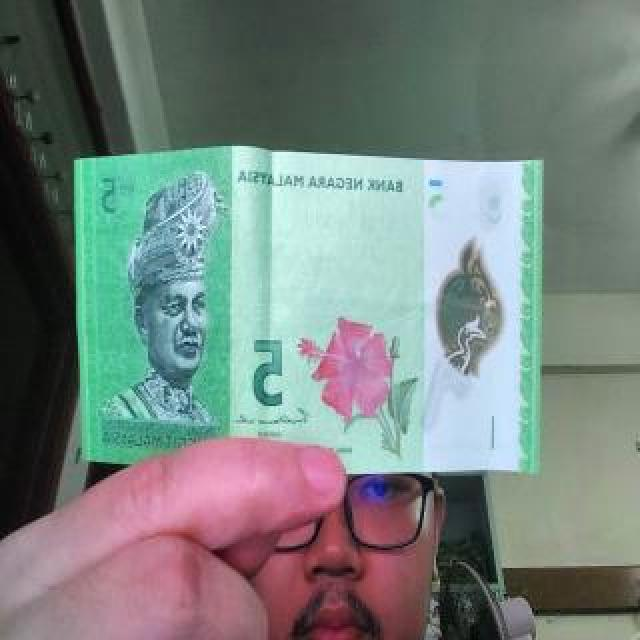5 Ringgit: (78, 150, 544, 478)
